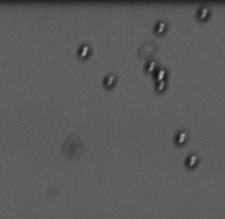Living Cell: (75, 42, 92, 60), (184, 152, 200, 170), (102, 72, 118, 89), (174, 129, 189, 146), (196, 5, 211, 22), (153, 20, 168, 36), (154, 67, 168, 81), (143, 59, 155, 73), (155, 80, 166, 91)
